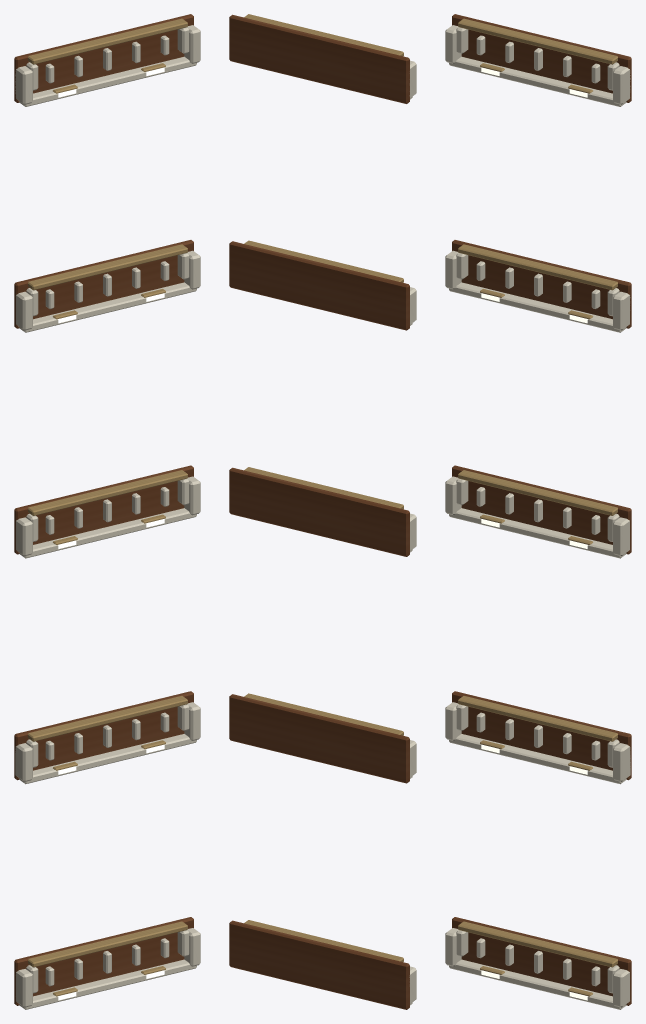
Rendered from TidalArrivalPortals_r001.glb.
3 renders of one model, left to right at view 1: azimuth 30°, elevation 25°; view 2: azimuth 150°, elevation 25°; view 3: azimuth 330°, elevation 25°, orthographic.
Visible parts, largest first — view 1: D15_CrownBack, D13_CrownBack, D14_CrownBack, D16_CrownBack, D17_CrownBack, D14_CrownSoffit, D16_CrownSoffit, D15_CrownSoffit, D13_CrownSoffit, D17_CrownSoffit, D13_UpperShadowBreak, D14_UpperShadowBreak (+13 smaller); view 2: D13_CrownBack, D14_CrownBack, D16_CrownBack, D15_CrownBack, D17_CrownBack, D14_UpperShadowBreak, D15_UpperShadowBreak, D16_UpperShadowBreak, D17_UpperShadowBreak, D13_UpperShadowBreak; view 3: D15_CrownBack, D13_CrownBack, D14_CrownBack, D16_CrownBack, D17_CrownBack, D14_CrownSoffit, D16_CrownSoffit, D15_CrownSoffit, D13_CrownSoffit, D17_CrownSoffit, D13_UpperShadowBreak, D14_UpperShadowBreak (+13 smaller).
Boxes of the visible parts, box(x1,y1,x2,y2) form: D15_CrownBack: box(14, 465, 193, 554); D13_CrownBack: box(14, 917, 193, 1005); D14_CrownBack: box(14, 691, 193, 780); D16_CrownBack: box(14, 240, 193, 328); D17_CrownBack: box(14, 14, 193, 102); D14_CrownSoffit: box(19, 734, 196, 784); D16_CrownSoffit: box(19, 282, 196, 332); D15_CrownSoffit: box(19, 508, 196, 558); D13_CrownSoffit: box(19, 959, 196, 1009); D17_CrownSoffit: box(19, 56, 196, 106); D13_UpperShadowBreak: box(28, 921, 187, 967); D14_UpperShadowBreak: box(28, 696, 187, 741); D13_CrownBack: box(229, 920, 409, 1009); D14_CrownBack: box(229, 694, 409, 783); D16_CrownBack: box(229, 241, 409, 330); D15_CrownBack: box(229, 467, 409, 556); D17_CrownBack: box(229, 14, 409, 103); D14_UpperShadowBreak: box(244, 693, 403, 735); D15_UpperShadowBreak: box(244, 467, 403, 509); D16_UpperShadowBreak: box(244, 240, 403, 282); D17_UpperShadowBreak: box(244, 14, 403, 56); D13_UpperShadowBreak: box(244, 920, 403, 961); D15_CrownBack: box(452, 465, 631, 554); D13_CrownBack: box(452, 917, 631, 1005); D14_CrownBack: box(452, 691, 631, 780); D16_CrownBack: box(452, 240, 631, 328); D17_CrownBack: box(452, 14, 631, 102); D14_CrownSoffit: box(449, 734, 626, 784); D16_CrownSoffit: box(449, 282, 626, 332); D15_CrownSoffit: box(449, 508, 626, 558); D13_CrownSoffit: box(449, 959, 626, 1009); D17_CrownSoffit: box(449, 56, 626, 106); D13_UpperShadowBreak: box(458, 921, 617, 967); D14_UpperShadowBreak: box(458, 696, 617, 741).
Bounding box in the file's own units: 3.72 × 18.91 × 0.37.
4 materials, 3 textured.
